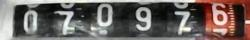digits: (173, 10, 190, 36), (134, 6, 151, 31), (211, 2, 228, 26), (96, 3, 113, 26), (58, 11, 74, 35), (22, 10, 38, 32)
